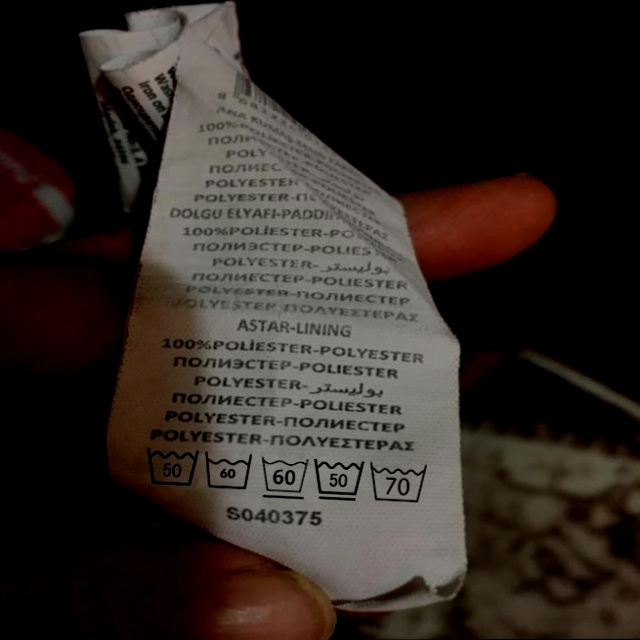50C: (140, 440, 203, 491), (311, 455, 368, 504)
60C: (259, 452, 313, 500), (202, 448, 257, 494)
70C: (370, 460, 434, 505)
